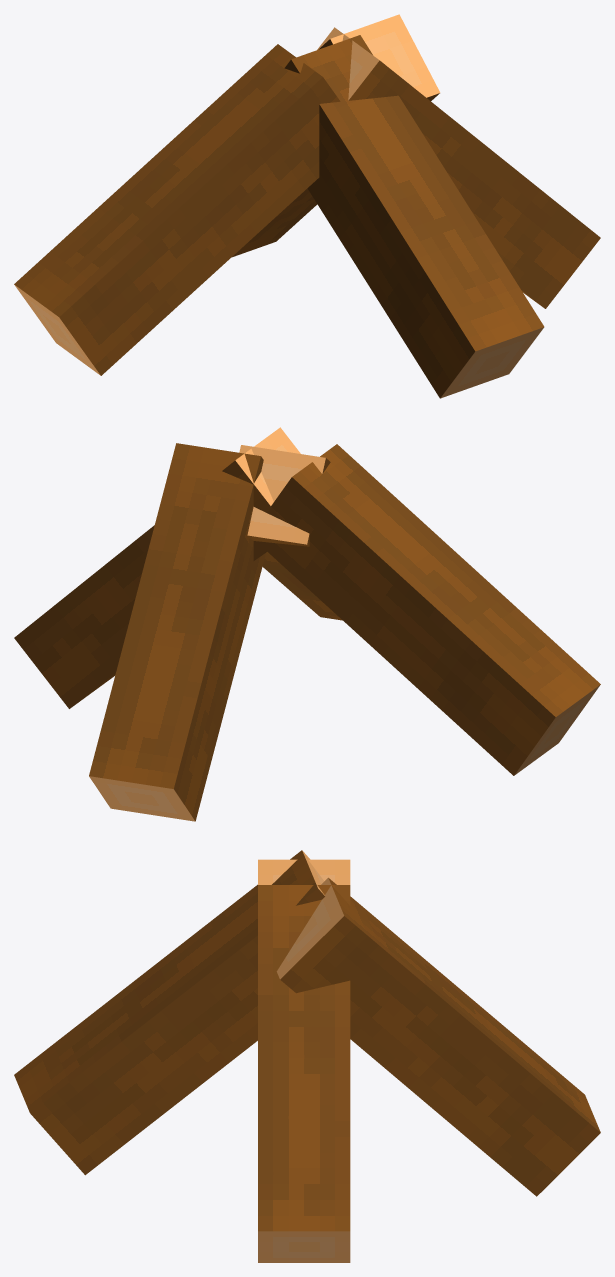
Rendered from campfire.gltf.
3 renders of one model, top to bottom at view 1: azimuth 30°, elevation 25°; view 2: azimuth 150°, elevation 25°; view 3: azimuth 270°, elevation 25°, orthographic. The views are drawn at different scales.
Visible parts, largest first — view 1: log (×4); view 2: log (×4); view 3: log (×4).
Part boxes in pixels (<box>): log (×4): <box>14,14,600,398</box>; log (×4): <box>14,427,600,821</box>; log (×4): <box>14,850,600,1262</box>.
Size of the model in its own units: 0.6061 by 0.311 by 0.5573.
Materials: 1 (1 with a texture image).
